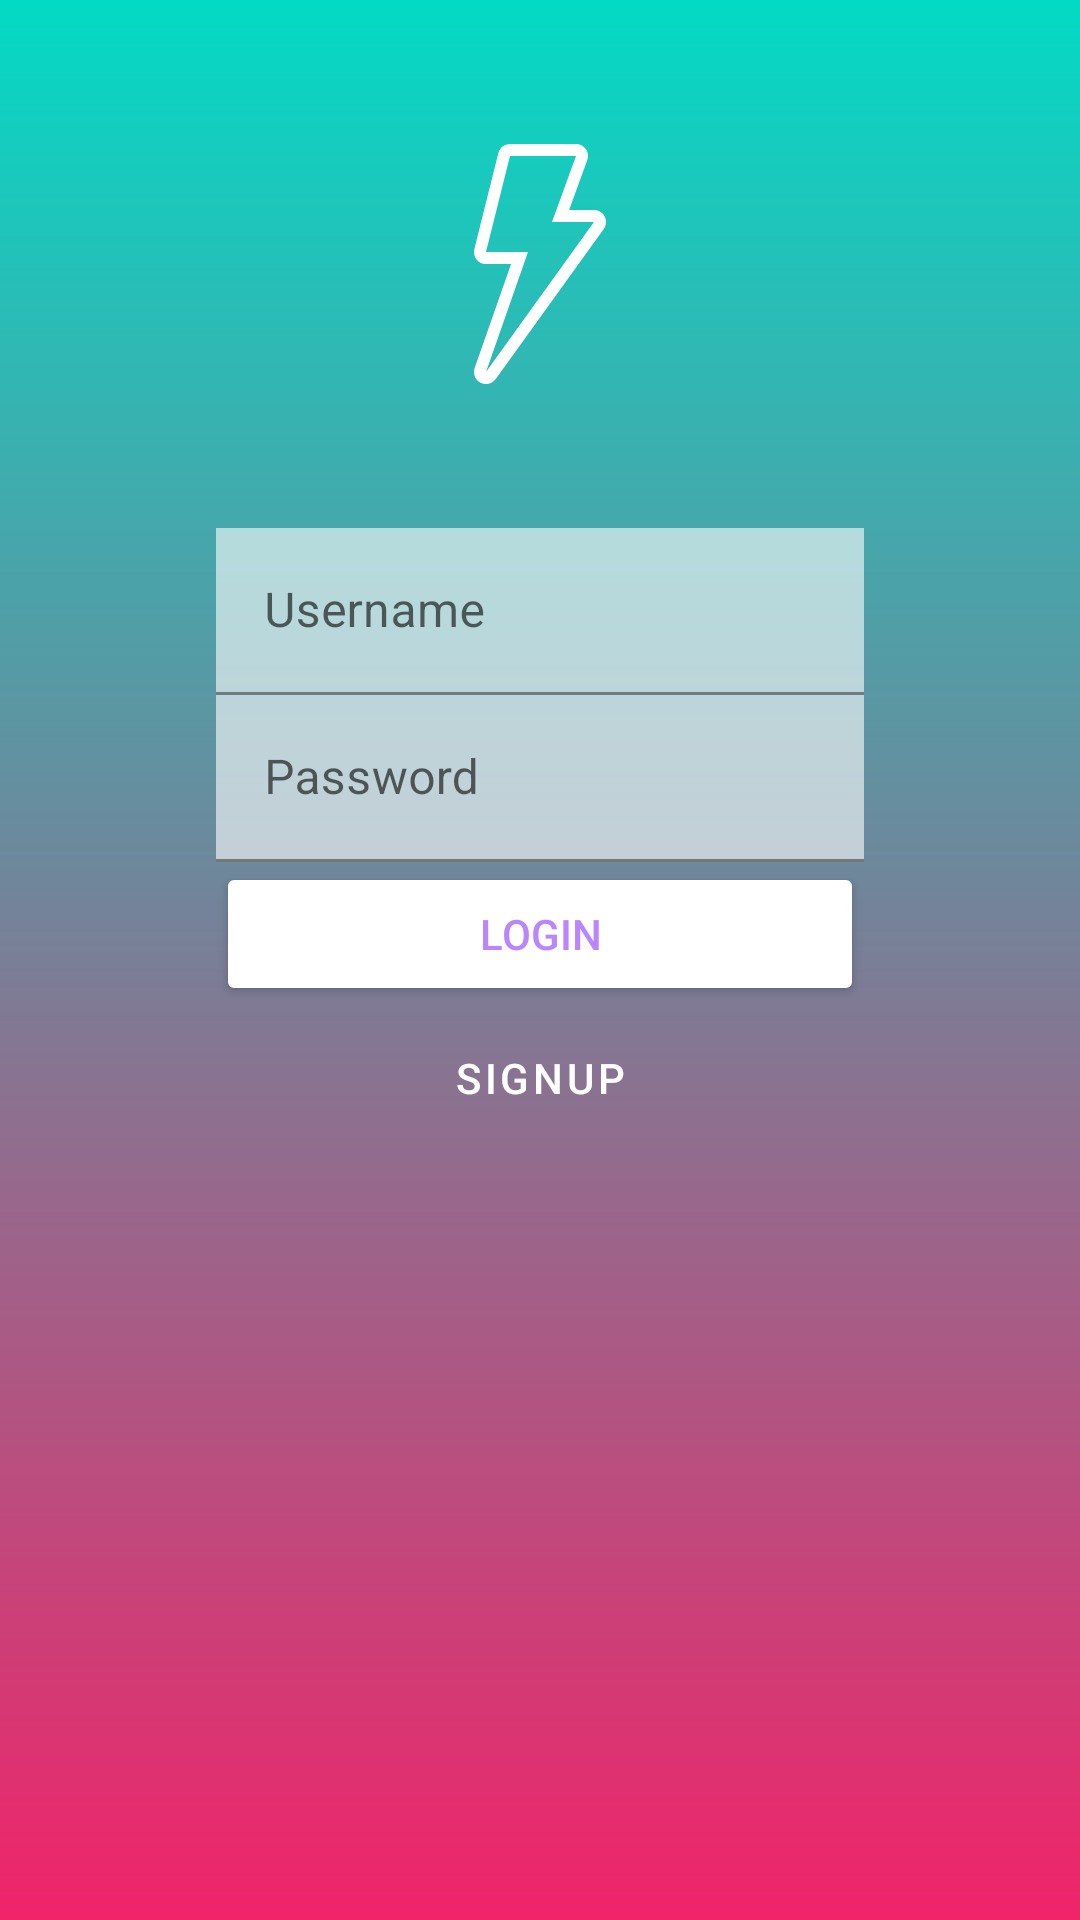

Screen size 1080x1920. Icon name, then its box in pixels as (x1, y1, x2, y2):
rayologin: (420, 144, 660, 384)
